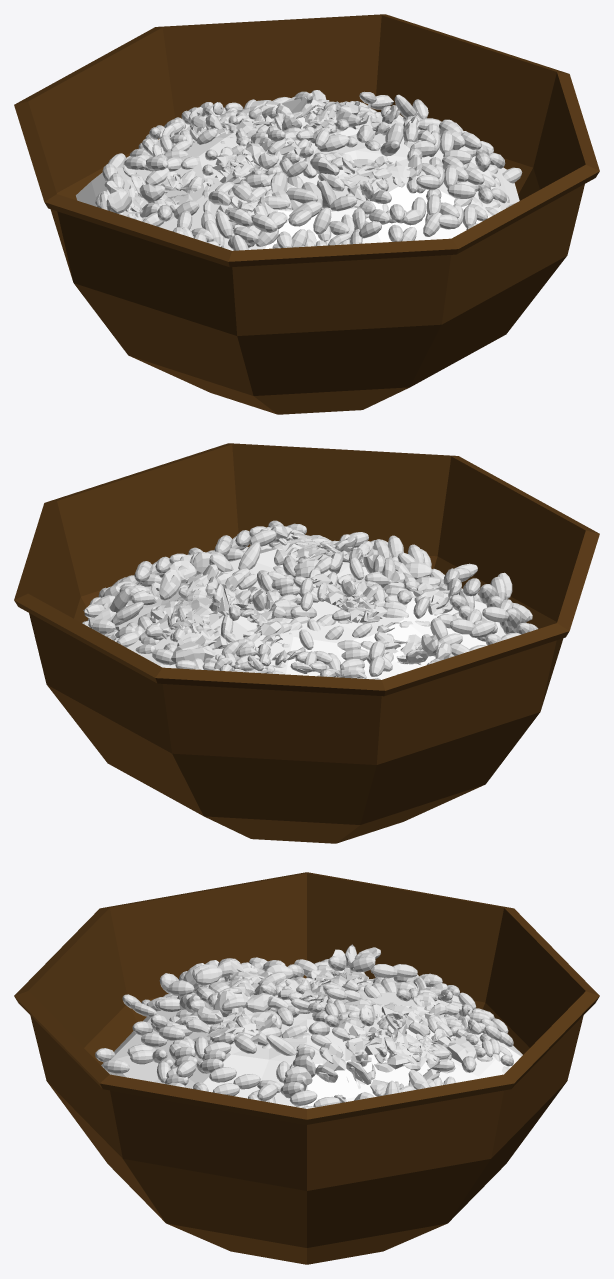
File: Bowl 1.fbx
3 views of the same model, one above another, from view 1: azimuth 30°, elevation 25°; view 2: azimuth 150°, elevation 25°; view 3: azimuth 270°, elevation 25° (orthographic). The views are drawn at different scales.
Parts seen in each view (by area): view 1: Bowl, bab; view 2: Bowl, bab; view 3: Bowl, bab.
Part boxes in pixels (x1,y1,x2,y2): Bowl: [14, 14, 599, 414]; bab: [76, 90, 522, 250]; Bowl: [14, 443, 599, 843]; bab: [82, 520, 538, 679]; Bowl: [14, 872, 599, 1264]; bab: [95, 944, 522, 1108].
Size of the model in its own units: 200 by 85.88 by 200.
